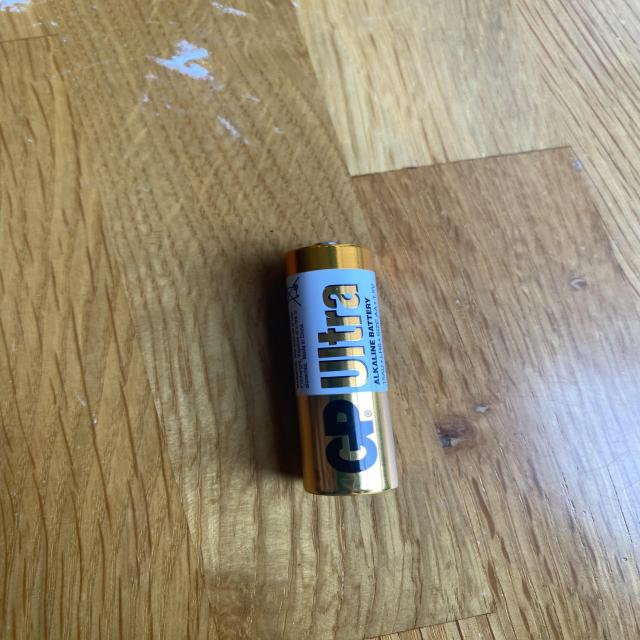AA: (278, 238, 404, 500)
